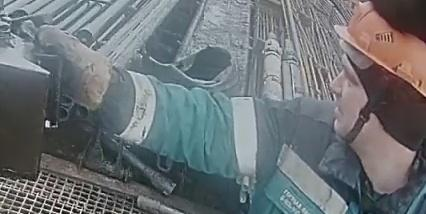gloves: (34, 24, 135, 113)
helmet: (334, 0, 426, 96)
vest: (210, 99, 424, 213)
